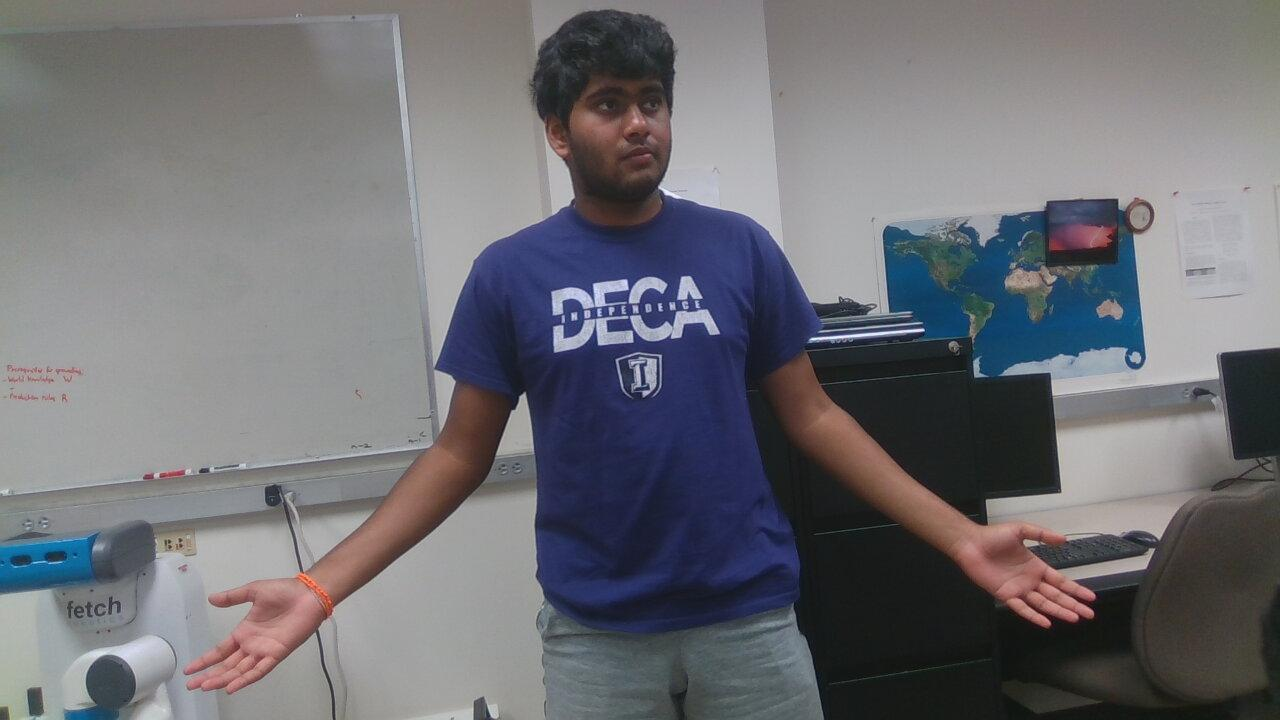hands: (956, 509, 1115, 638), (176, 572, 331, 694)
